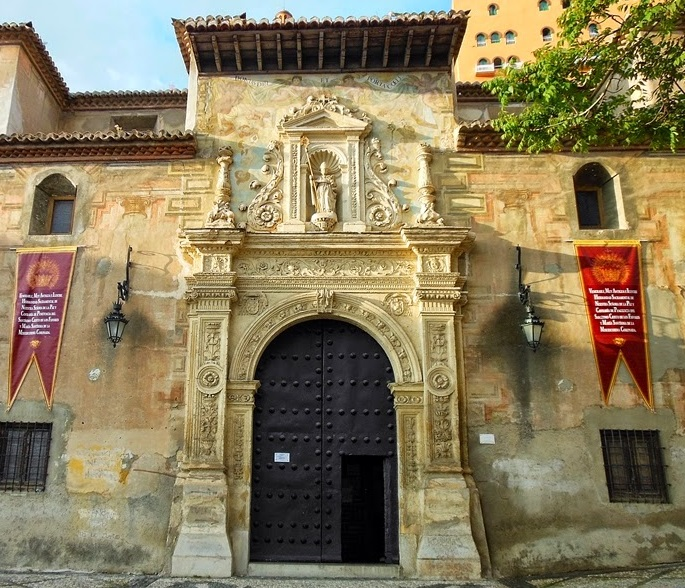arco-medio-punto: (243, 303, 407, 422)
fronton: (277, 106, 373, 137)
